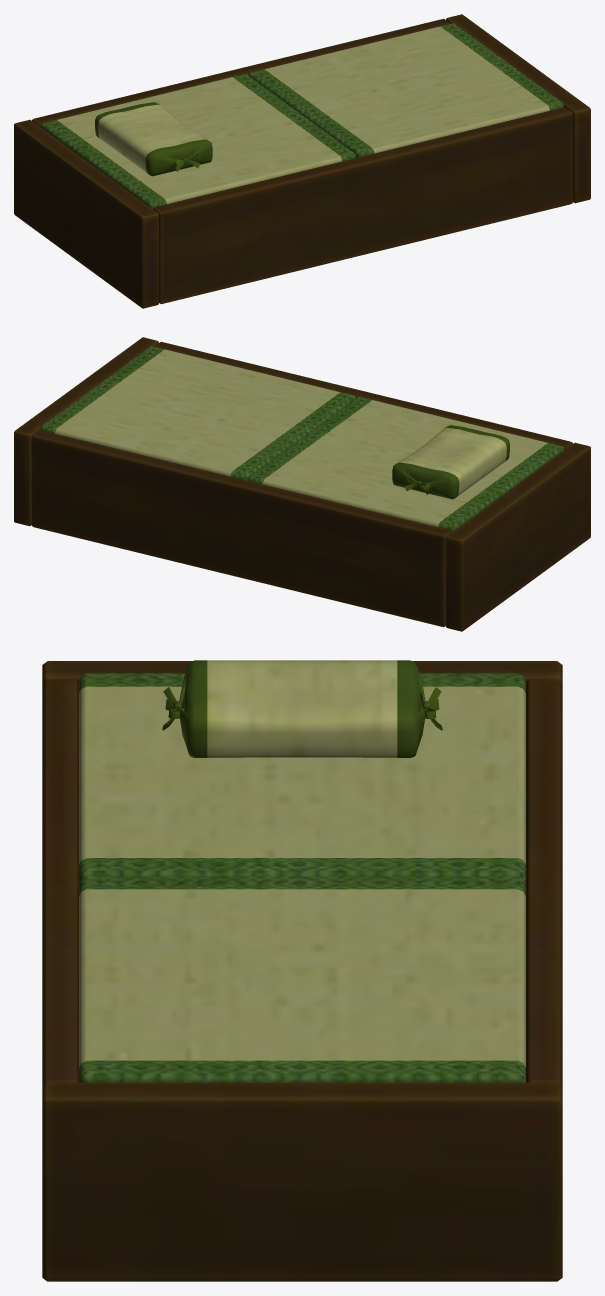
3 views of the same model, one above another, from view 1: azimuth 30°, elevation 25°; view 2: azimuth 150°, elevation 25°; view 3: azimuth 270°, elevation 25° (orthographic). The views are drawn at different scales.
Size of the model in its own units: 19.95 by 4.97 by 10.
Materials: 1 (1 with a texture image).
